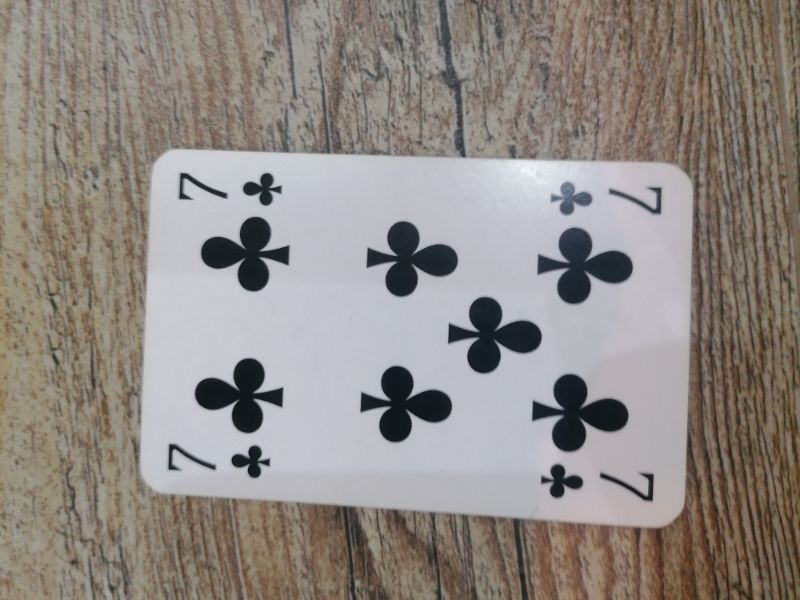7c: (536, 461, 658, 509), (545, 175, 669, 222), (174, 163, 288, 213), (164, 435, 275, 484)
